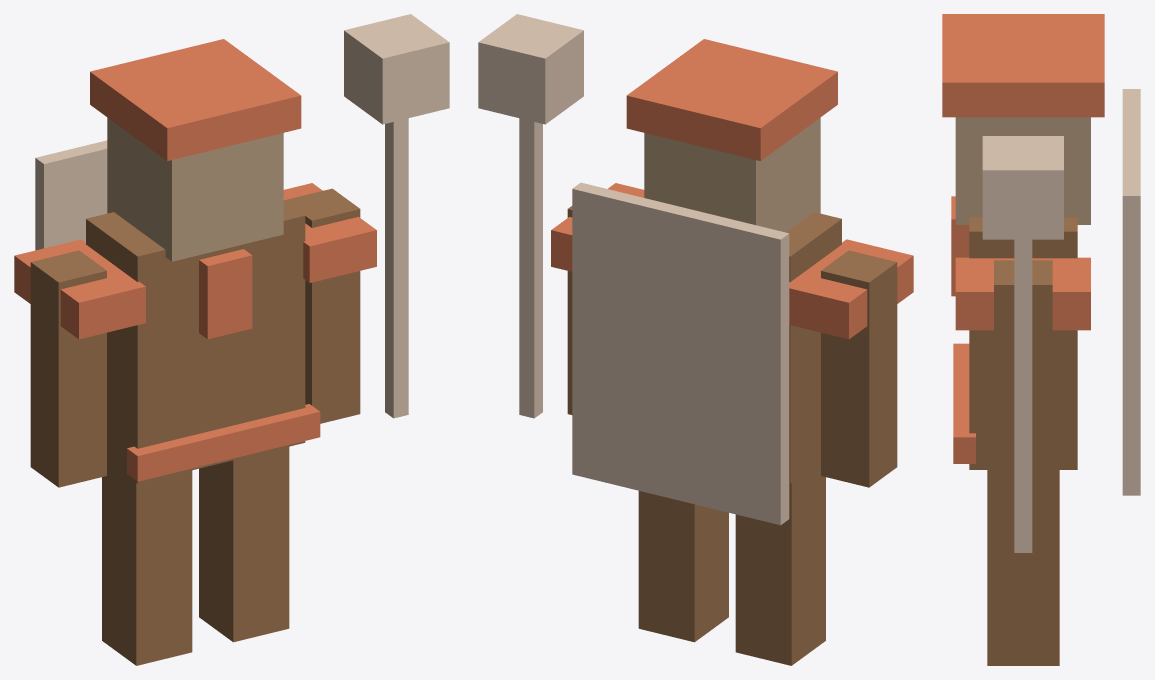
Rendered from 08_isolde_voxmere_diver_near_redcliff.glb.
The picture shows the model from 3 angles, left to right: view 1: azimuth 30°, elevation 25°; view 2: azimuth 150°, elevation 25°; view 3: azimuth 270°, elevation 25°; orthographic projection. The views are drawn at different scales.
Visible parts, largest first — view 1: Isolde Voxmere, Diver near Redcliff; view 2: Isolde Voxmere, Diver near Redcliff; view 3: Isolde Voxmere, Diver near Redcliff.
Boxes of the visible parts, left/top/right/bottom form: Isolde Voxmere, Diver near Redcliff: left=14, top=14, right=449, bottom=665; Isolde Voxmere, Diver near Redcliff: left=478, top=14, right=913, bottom=665; Isolde Voxmere, Diver near Redcliff: left=942, top=14, right=1140, bottom=665.
Bounding box in the file's own units: 1.03 × 1.41 × 0.4374.
